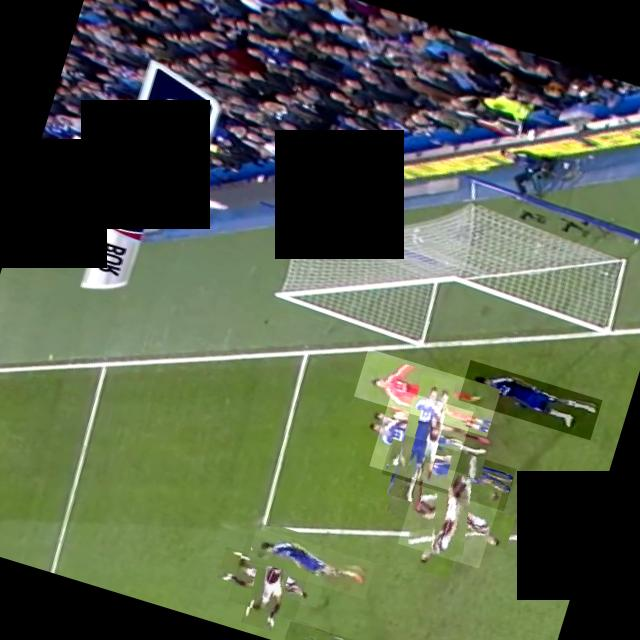goalkeeper: (354, 348, 502, 436)
soccer-player: (458, 358, 602, 439), (398, 460, 503, 567), (381, 430, 516, 510), (369, 386, 473, 489), (246, 526, 376, 598), (228, 532, 314, 620), (283, 619, 404, 640)
